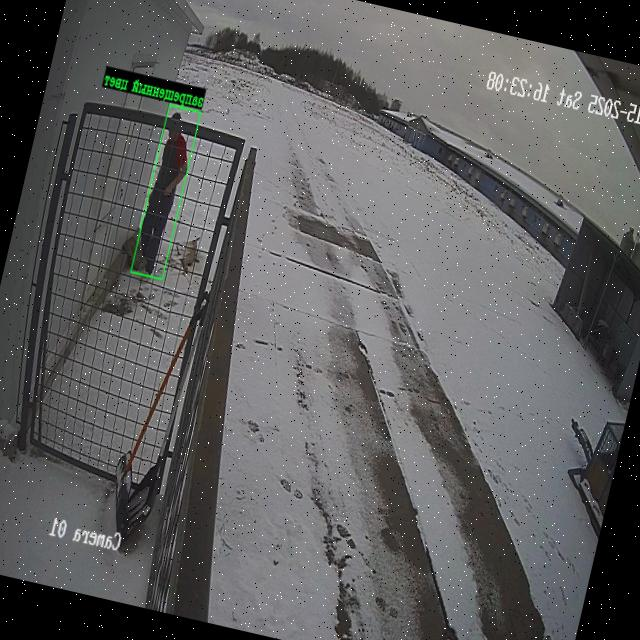Red uniform: (140, 113, 186, 274)
